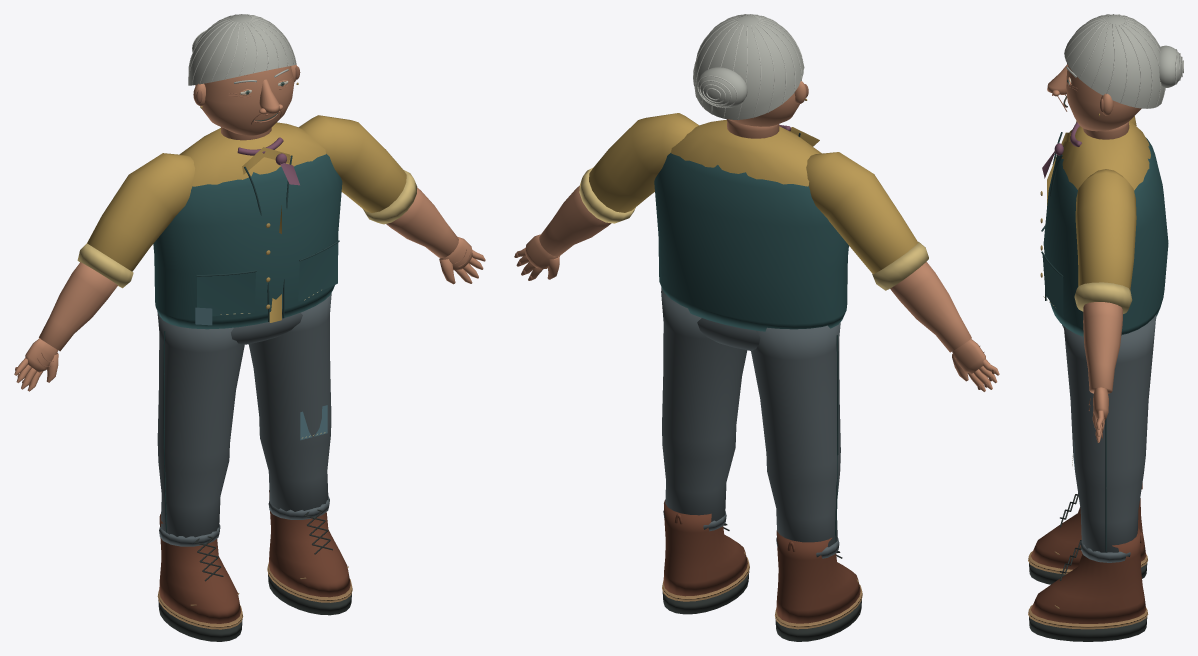
The model's file is entry-01-02.glb.
3 views of the same model, side by side, from view 1: azimuth 30°, elevation 25°; view 2: azimuth 150°, elevation 25°; view 3: azimuth 270°, elevation 25° (orthographic). The views are drawn at different scales.
Visible parts, largest first — view 1: Broad waistcoat body, Slate trouser leg -1, Slate trouser leg 1, Rolled work shirt sleeve -1, Rolled work shirt sleeve 1, Swept silver hair cap, Leather boot -1, Leather boot 1, Cotton torso, Age softened head, Curved patch pocket (×2), Strong forearm -1 (+8 smaller); view 2: Broad waistcoat body, Slate trouser leg -1, Slate trouser leg 1, Swept silver hair cap, Rolled work shirt sleeve -1, Rolled work shirt sleeve 1, Cotton torso, Leather boot -1, Leather boot 1, Strong forearm -1, Strong forearm 1, Low coiled bun (+7 smaller); view 3: Slate trouser leg 1, Broad waistcoat body, Swept silver hair cap, Rolled work shirt sleeve 1, Leather boot 1, Cotton torso, Strong forearm 1, Leather boot -1, Age softened head, Rubber boot sole 1, Rolled sleeve cuff 1, Low coiled bun (+9 smaller).
Boxes of the visible parts, bbox=[...] form: Broad waistcoat body: bbox=[153, 154, 342, 329]; Slate trouser leg -1: bbox=[157, 311, 244, 537]; Slate trouser leg 1: bbox=[248, 293, 331, 511]; Rolled work shirt sleeve -1: bbox=[87, 153, 195, 271]; Rolled work shirt sleeve 1: bbox=[298, 115, 406, 212]; Swept silver hair cap: bbox=[188, 14, 295, 85]; Leather boot -1: bbox=[159, 514, 241, 623]; Leather boot 1: bbox=[269, 490, 350, 597]; Cotton torso: bbox=[179, 122, 325, 186]; Age softened head: bbox=[195, 66, 294, 135]; Curved patch pocket (×2): bbox=[197, 243, 338, 316]; Strong forearm -1: bbox=[39, 262, 117, 351]; Broad waistcoat body: bbox=[654, 153, 848, 331]; Slate trouser leg -1: bbox=[751, 322, 840, 547]; Slate trouser leg 1: bbox=[661, 287, 747, 521]; Swept silver hair cap: bbox=[693, 14, 803, 119]; Rolled work shirt sleeve -1: bbox=[806, 152, 917, 274]; Rolled work shirt sleeve 1: bbox=[589, 113, 698, 212]; Cotton torso: bbox=[671, 120, 821, 186]; Leather boot -1: bbox=[776, 530, 860, 623]; Leather boot 1: bbox=[663, 500, 747, 596]; Strong forearm -1: bbox=[890, 262, 971, 352]; Strong forearm 1: bbox=[539, 185, 611, 256]; Low coiled bun: bbox=[697, 67, 747, 107]; Slate trouser leg 1: bbox=[1064, 314, 1156, 552]; Broad waistcoat body: bbox=[1043, 138, 1168, 336]; Swept silver hair cap: bbox=[1064, 14, 1165, 108]; Rolled work shirt sleeve 1: bbox=[1075, 169, 1136, 289]; Leather boot 1: bbox=[1031, 528, 1146, 623]; Cotton torso: bbox=[1061, 121, 1150, 190]; Strong forearm 1: bbox=[1083, 302, 1122, 393]; Leather boot -1: bbox=[1031, 498, 1146, 569]; Age softened head: bbox=[1066, 65, 1141, 131]; Rubber boot sole 1: bbox=[1029, 616, 1147, 641]; Rolled sleeve cuff 1: bbox=[1074, 282, 1132, 313]; Low coiled bun: bbox=[1159, 45, 1182, 87].
Bounding box in the file's own units: 1.4 × 1.64 × 0.3996.
